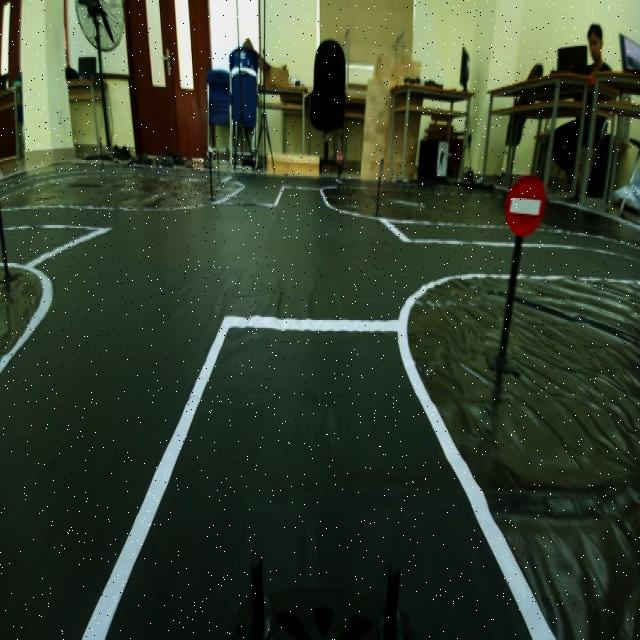no_entry: (501, 170, 549, 248)
